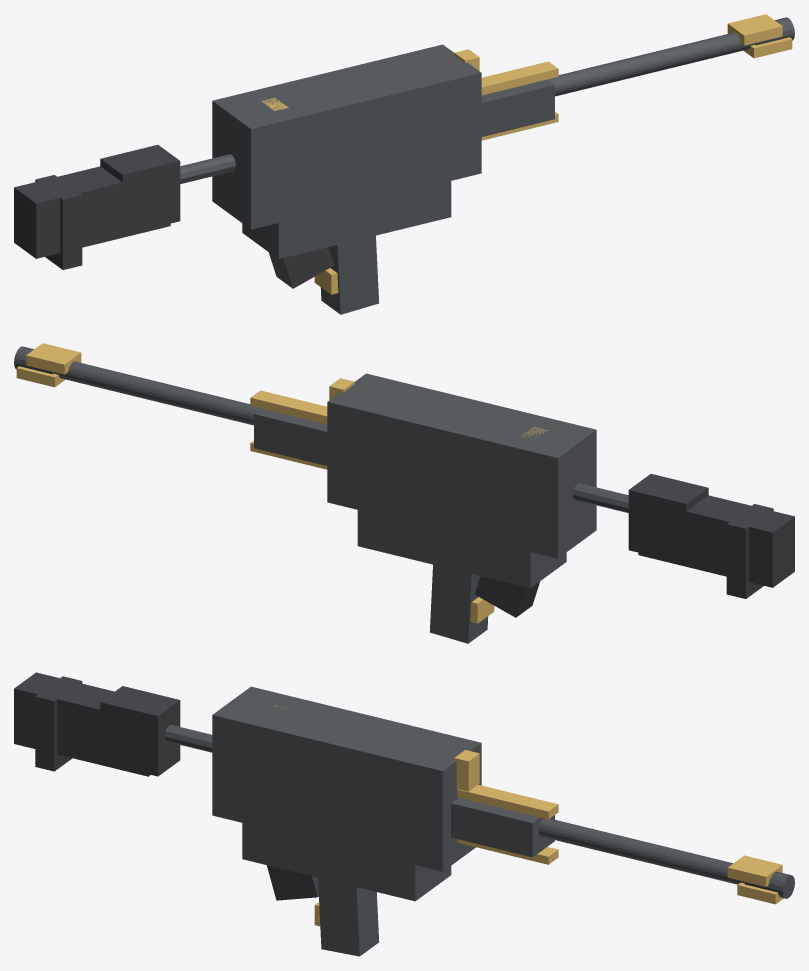
File: viewmodel_ar15.gltf
The picture shows the model from 3 angles, top to bottom: view 1: azimuth 30°, elevation 25°; view 2: azimuth 150°, elevation 25°; view 3: azimuth 330°, elevation 25°; orthographic projection.
Visible parts, largest first — view 1: viewmodel_ar15; view 2: viewmodel_ar15; view 3: viewmodel_ar15.
Part boxes in pixels (left/top/right/bottom): viewmodel_ar15: left=14, top=14, right=794, bottom=314; viewmodel_ar15: left=14, top=343, right=794, bottom=643; viewmodel_ar15: left=14, top=672, right=794, bottom=956.
Size of the model in its own units: 1.59 by 0.4368 by 0.14.
